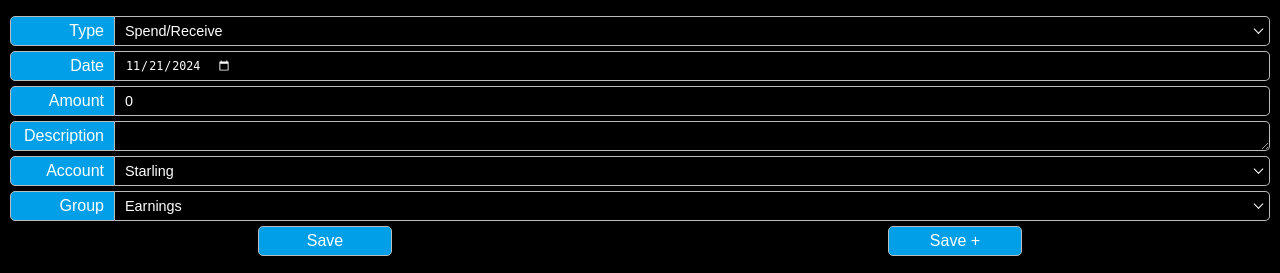
Displays the correct fields for a Transfer transaction
// change to Transfer form
Select "Transfer" in the dropdown labelled "Type" at (62, 31), box left=10, top=16, right=115, bottom=46
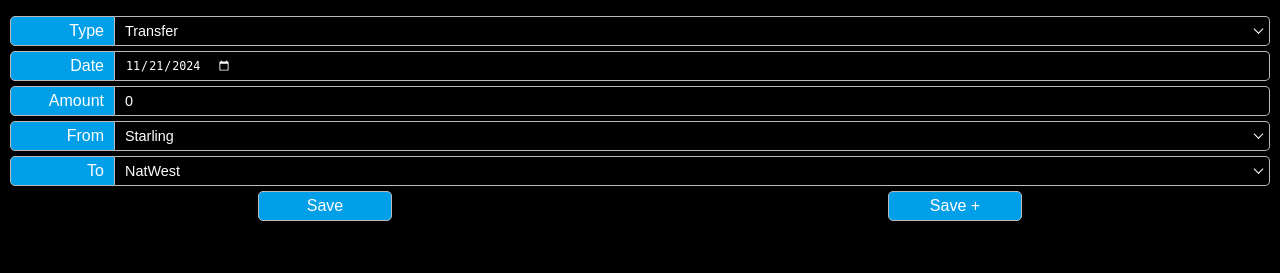
expect the button "Save" is shown: met, box left=258, top=191, right=392, bottom=221
expect the text "From" is shown: met, box left=10, top=121, right=115, bottom=151
expect the text "To" is shown: met, box left=10, top=156, right=115, bottom=186
